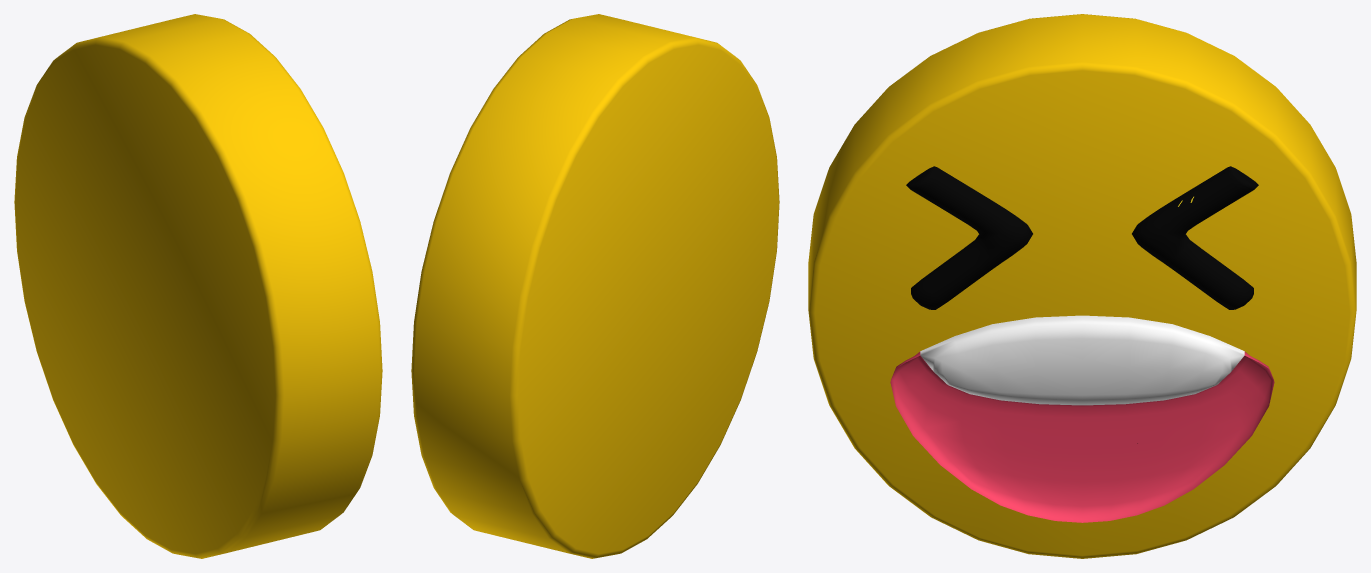
The model's file is AU_emoji_05.fbx.
The picture shows the model from 3 angles, left to right: view 1: azimuth 30°, elevation 25°; view 2: azimuth 150°, elevation 25°; view 3: azimuth 270°, elevation 25°; orthographic projection. The views are drawn at different scales.
Visible parts, largest first — view 1: Cylinder.002; view 2: Cylinder.002; view 3: Cylinder.002.
Boxes of the visible parts, x1,y1,x2,y2 form: Cylinder.002: (14, 14, 382, 558); Cylinder.002: (411, 14, 779, 558); Cylinder.002: (808, 14, 1356, 558).
Bounding box in the file's own units: 4.14 × 14.45 × 14.45.
Materials: 1 (1 with a texture image).
